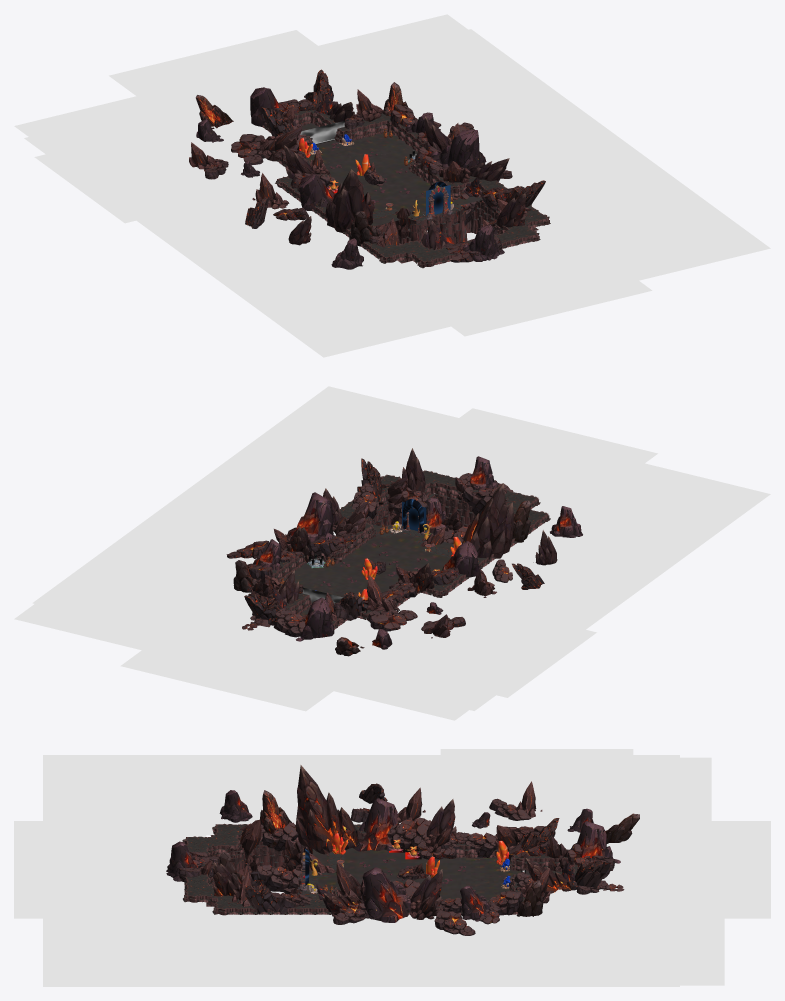
File: LevelMap_1070106.glb
3 views of the same model, one above another, from view 1: azimuth 30°, elevation 25°; view 2: azimuth 150°, elevation 25°; view 3: azimuth 270°, elevation 25° (orthographic). The views are drawn at different scales.
Parts seen in each view (by area): view 1: EnvCavern_Detail__Lava_1__u3185, EnvCavern_Detail__Lava_2__u3625, EnvCavern_Detail__Lava_3__u2895, EnvCavern_Detail__Lava_5__u2265, EnvCavern_Detail__Lava_4__u3937, EnvCavern_Detail__Lava_7__u3680, EnvCavern_Detail__Lava_6__u4399, LevelMap_1070106_Terrain__u3397, LevelMap_1070106_Terrain_1__u2333, EnvCavern_Detail__Rock___2__u3984, EnvCavern_Detail__Rock___6_3__u2869, EnvCavern_Detail__Lava_8__u3902 (+10 smaller); view 2: EnvCavern_Detail__Lava_1__u3185, EnvCavern_Detail__Lava_2__u3625, EnvCavern_Detail__Lava_3__u2895, EnvCavern_Detail__Lava_5__u2265, EnvCavern_Detail__Lava_4__u3937, EnvCavern_Detail__Lava_6__u4399, EnvCavern_Detail__Lava_7__u3680, LevelMap_1070106_Terrain__u3397, EnvCavern_Detail__Rock___2__u3984, EnvCavern_Detail__Rock___6_3__u2869, EnvCavern_Detail__Rock___6_1__u3970, EnvCavern_Detail__Rock___6__u2272 (+13 smaller); view 3: EnvCavern_Detail__Lava_2__u3625, EnvCavern_Detail__Lava_1__u3185, EnvCavern_Detail__Lava_5__u2265, EnvCavern_Detail__Lava_3__u2895, EnvCavern_Detail__Lava_4__u3937, EnvCavern_Detail__Lava_6__u4399, EnvCavern_Detail__Lava_7__u3680, EnvCavern_Detail__Rock___2__u3984, LevelMap_1070106_Terrain__u3397, EnvCavern_Detail__Rock___6_3__u2869, LevelMap_1070106_Terrain_1__u2333, EnvCavern_Detail__Rock___6__u2272 (+35 smaller).
Boxes of the visible parts, x1=… form: EnvCavern_Detail__Lava_1__u3185: x1=24, y1=100, x2=474, y2=357; EnvCavern_Detail__Lava_2__u3625: x1=317, y1=29, x2=770, y2=286; EnvCavern_Detail__Lava_3__u2895: x1=375, y1=224, x2=652, y2=336; EnvCavern_Detail__Lava_5__u2265: x1=260, y1=14, x2=537, y2=114; EnvCavern_Detail__Lava_4__u3937: x1=109, y1=30, x2=384, y2=141; EnvCavern_Detail__Lava_7__u3680: x1=34, y1=117, x2=287, y2=223; EnvCavern_Detail__Lava_6__u4399: x1=14, y1=80, x2=271, y2=190; LevelMap_1070106_Terrain__u3397: x1=327, y1=148, x2=481, y2=226; LevelMap_1070106_Terrain_1__u2333: x1=301, y1=123, x2=412, y2=169; EnvCavern_Detail__Rock___2__u3984: x1=325, y1=169, x2=374, y2=232; EnvCavern_Detail__Rock___6_3__u2869: x1=430, y1=129, x2=486, y2=169; EnvCavern_Detail__Lava_8__u3902: x1=485, y1=138, x2=562, y2=172; EnvCavern_Detail__Lava_1__u3185: x1=321, y1=457, x2=770, y2=710; EnvCavern_Detail__Lava_2__u3625: x1=32, y1=386, x2=480, y2=640; EnvCavern_Detail__Lava_3__u2895: x1=383, y1=408, x2=657, y2=516; EnvCavern_Detail__Lava_5__u2265: x1=14, y1=554, x2=253, y2=664; EnvCavern_Detail__Lava_4__u3937: x1=120, y1=601, x2=364, y2=711; EnvCavern_Detail__Lava_6__u4399: x1=274, y1=618, x2=539, y2=720; EnvCavern_Detail__Lava_7__u3680: x1=322, y1=592, x2=596, y2=697; LevelMap_1070106_Terrain__u3397: x1=294, y1=523, x2=453, y2=592; EnvCavern_Detail__Rock___2__u3984: x1=463, y1=483, x2=513, y2=559; EnvCavern_Detail__Rock___6_3__u2869: x1=287, y1=492, x2=335, y2=542; EnvCavern_Detail__Rock___6_1__u3970: x1=296, y1=597, x2=334, y2=641; EnvCavern_Detail__Rock___6__u2272: x1=442, y1=541, x2=480, y2=577; EnvCavern_Detail__Lava_2__u3625: x1=43, y1=906, x2=679, y2=986; EnvCavern_Detail__Lava_1__u3185: x1=43, y1=755, x2=679, y2=835; EnvCavern_Detail__Lava_5__u2265: x1=532, y1=888, x2=724, y2=985; EnvCavern_Detail__Lava_3__u2895: x1=14, y1=821, x2=206, y2=918; EnvCavern_Detail__Lava_4__u3937: x1=578, y1=821, x2=770, y2=918; EnvCavern_Detail__Lava_6__u4399: x1=519, y1=757, x2=711, y2=854; EnvCavern_Detail__Lava_7__u3680: x1=440, y1=749, x2=633, y2=846; EnvCavern_Detail__Rock___2__u3984: x1=295, y1=765, x2=363, y2=854; LevelMap_1070106_Terrain__u3397: x1=312, y1=847, x2=461, y2=899; EnvCavern_Detail__Rock___6_3__u2869: x1=361, y1=867, x2=410, y2=922; LevelMap_1070106_Terrain_1__u2333: x1=461, y1=857, x2=562, y2=899; EnvCavern_Detail__Rock___6__u2272: x1=353, y1=798, x2=397, y2=851.
Bounding box in the file's own units: 75.71 × 20.16 × 102.
39 materials, 38 textured.
